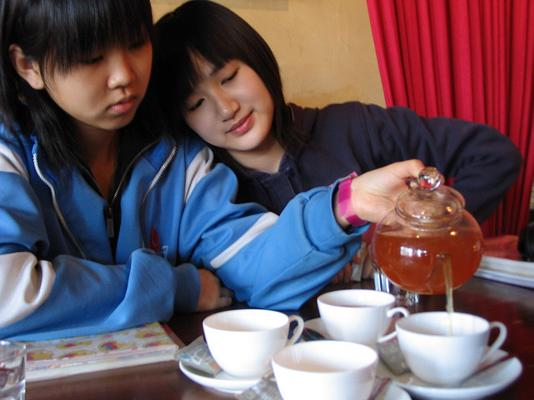person: (1, 1, 443, 343)
